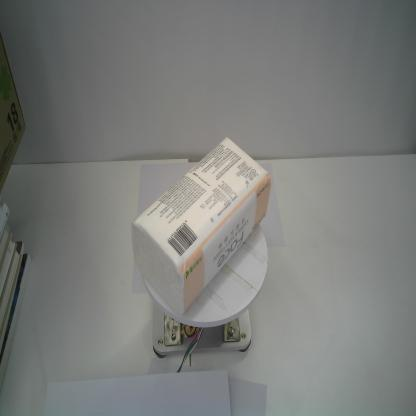Tissue: (130, 136, 272, 317)
